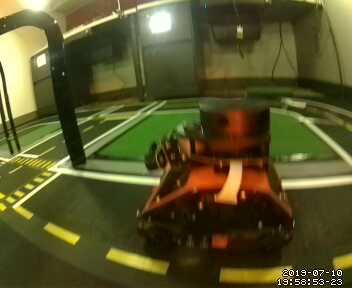pheeno: (136, 99, 298, 251)
